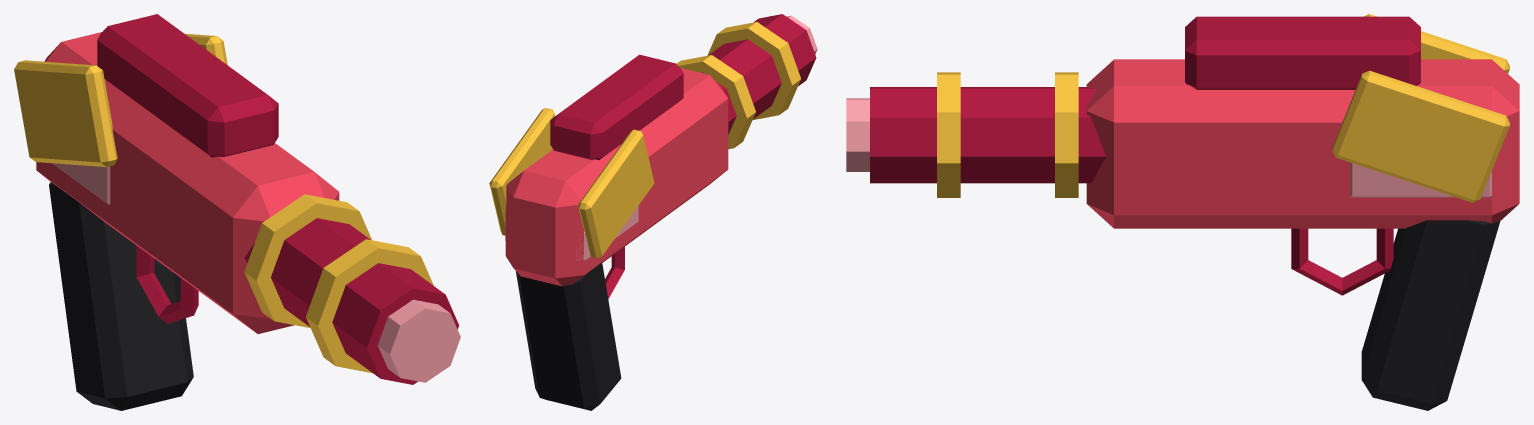
Rendered from RubyLaserBlaster.fbx.
3 renders of one model, left to right at view 1: azimuth 30°, elevation 25°; view 2: azimuth 150°, elevation 25°; view 3: azimuth 270°, elevation 25°, orthographic. The views are drawn at different scales.
Parts seen in each view (by area): view 1: RubyLaserBlaster; view 2: RubyLaserBlaster; view 3: RubyLaserBlaster.
Boxes of the visible parts, x1,y1,x2,y2 form: RubyLaserBlaster: [14, 14, 460, 410]; RubyLaserBlaster: [489, 14, 817, 410]; RubyLaserBlaster: [846, 14, 1519, 410].
Bounding box in the file's own units: 0.78 × 2.07 × 3.42.
Materials: 1 (1 with a texture image).
